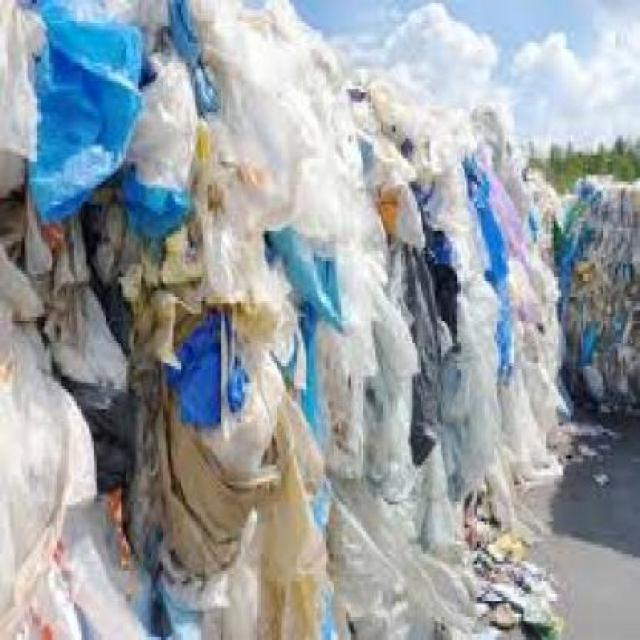garbage: (28, 14, 302, 601), (293, 129, 530, 588), (559, 175, 633, 400)
